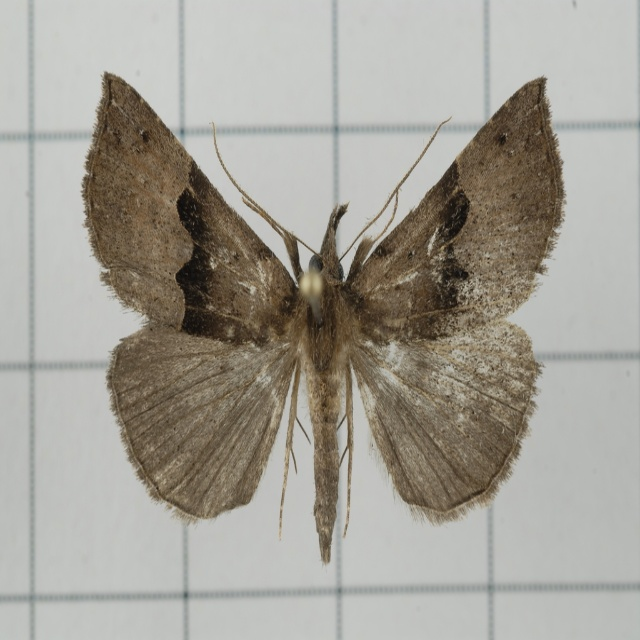Butterfly: (81, 79, 560, 564)
